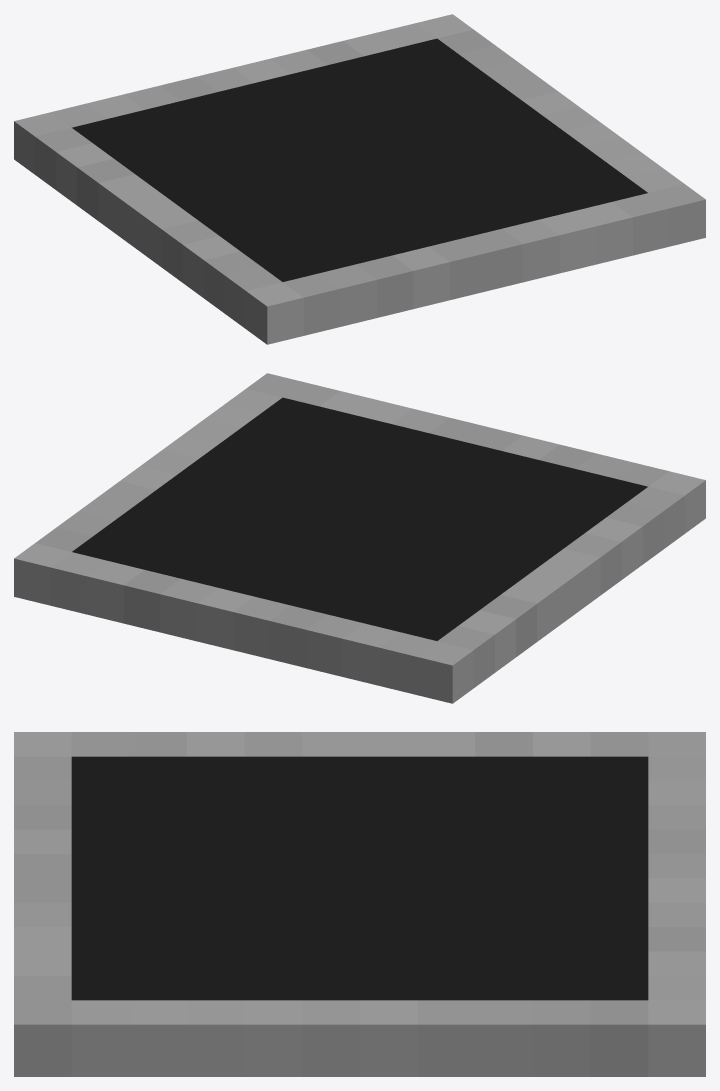
Rendered from DoorBase.obj.
The picture shows the model from 3 angles, top to bottom: view 1: azimuth 30°, elevation 25°; view 2: azimuth 150°, elevation 25°; view 3: azimuth 270°, elevation 25°; orthographic projection. The views are drawn at different scales.
Size of the model in its own units: 1.2 by 0.1 by 1.2.
1 material, 1 textured.
